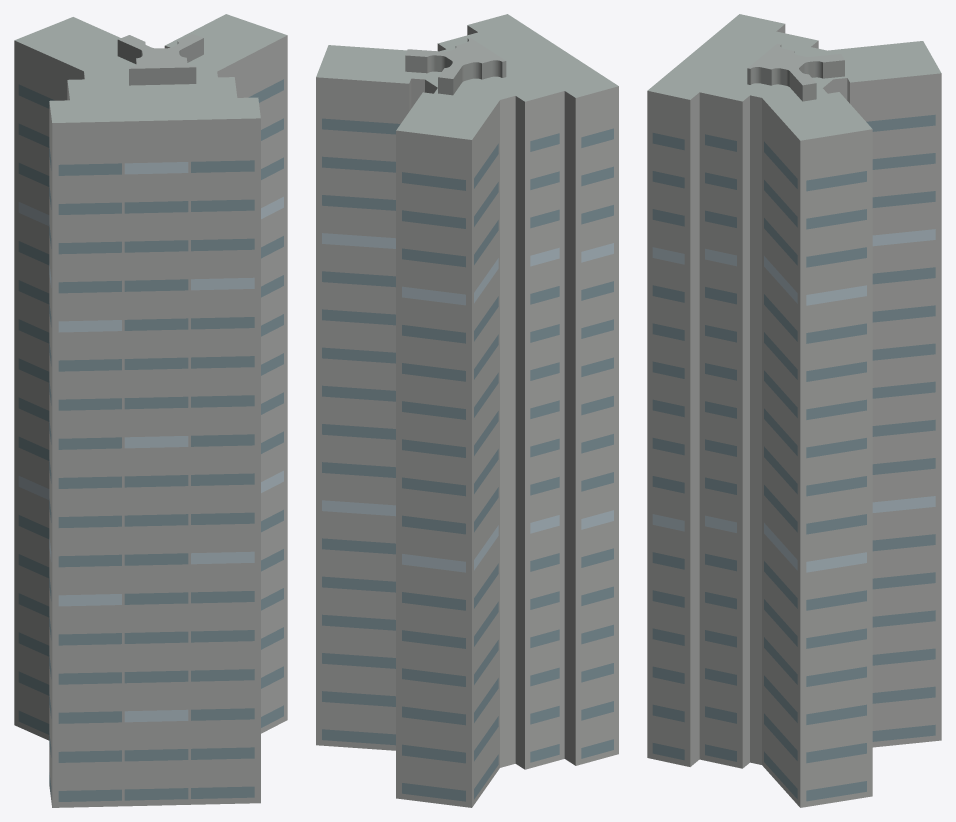
Rendered from fallback-banpo-riche-104.glb.
3 views of the same model, side by side, from view 1: azimuth 30°, elevation 25°; view 2: azimuth 150°, elevation 25°; view 3: azimuth 270°, elevation 25° (orthographic). The views are drawn at different scales.
Parts seen in each view (by area): view 1: fallback-banpo-riche-104; view 2: fallback-banpo-riche-104; view 3: fallback-banpo-riche-104.
Part boxes in pixels (box(x1,y1,x2,y2)): fallback-banpo-riche-104: box(14, 14, 287, 807); fallback-banpo-riche-104: box(316, 14, 618, 807); fallback-banpo-riche-104: box(647, 14, 941, 807).
Size of the model in its own units: 40.17 by 101 by 39.41.
